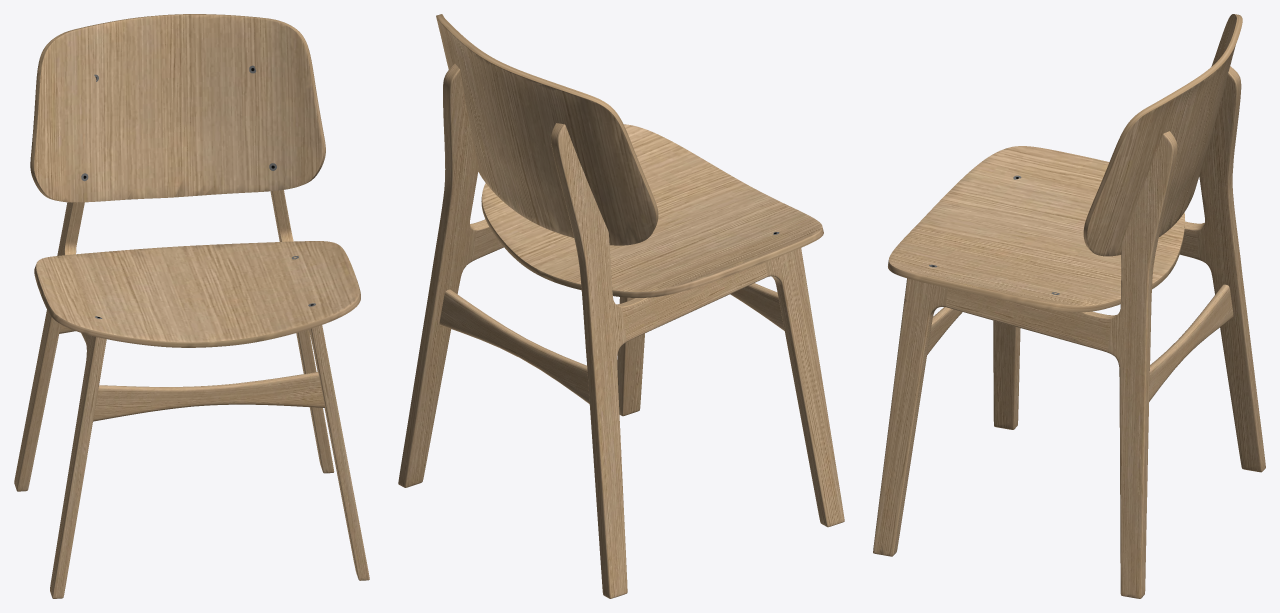
File: dining_chair_high_poly_modern_wood_ivo.glb
3 renders of one model, left to right at view 1: azimuth 30°, elevation 25°; view 2: azimuth 150°, elevation 25°; view 3: azimuth 270°, elevation 25°, orthographic. The views are drawn at different scales.
Parts seen in each view (by area): view 1: ChairBase_WoodMaterial_0; view 2: ChairBase_WoodMaterial_0; view 3: ChairBase_WoodMaterial_0.
Boxes of the visible parts, bbox=[...] form: ChairBase_WoodMaterial_0: bbox=[14, 14, 369, 598]; ChairBase_WoodMaterial_0: bbox=[398, 14, 844, 598]; ChairBase_WoodMaterial_0: bbox=[873, 14, 1265, 598].
Size of the model in its own units: 63.51 by 79.4 by 59.7.
Materials: 3 (1 with a texture image).
